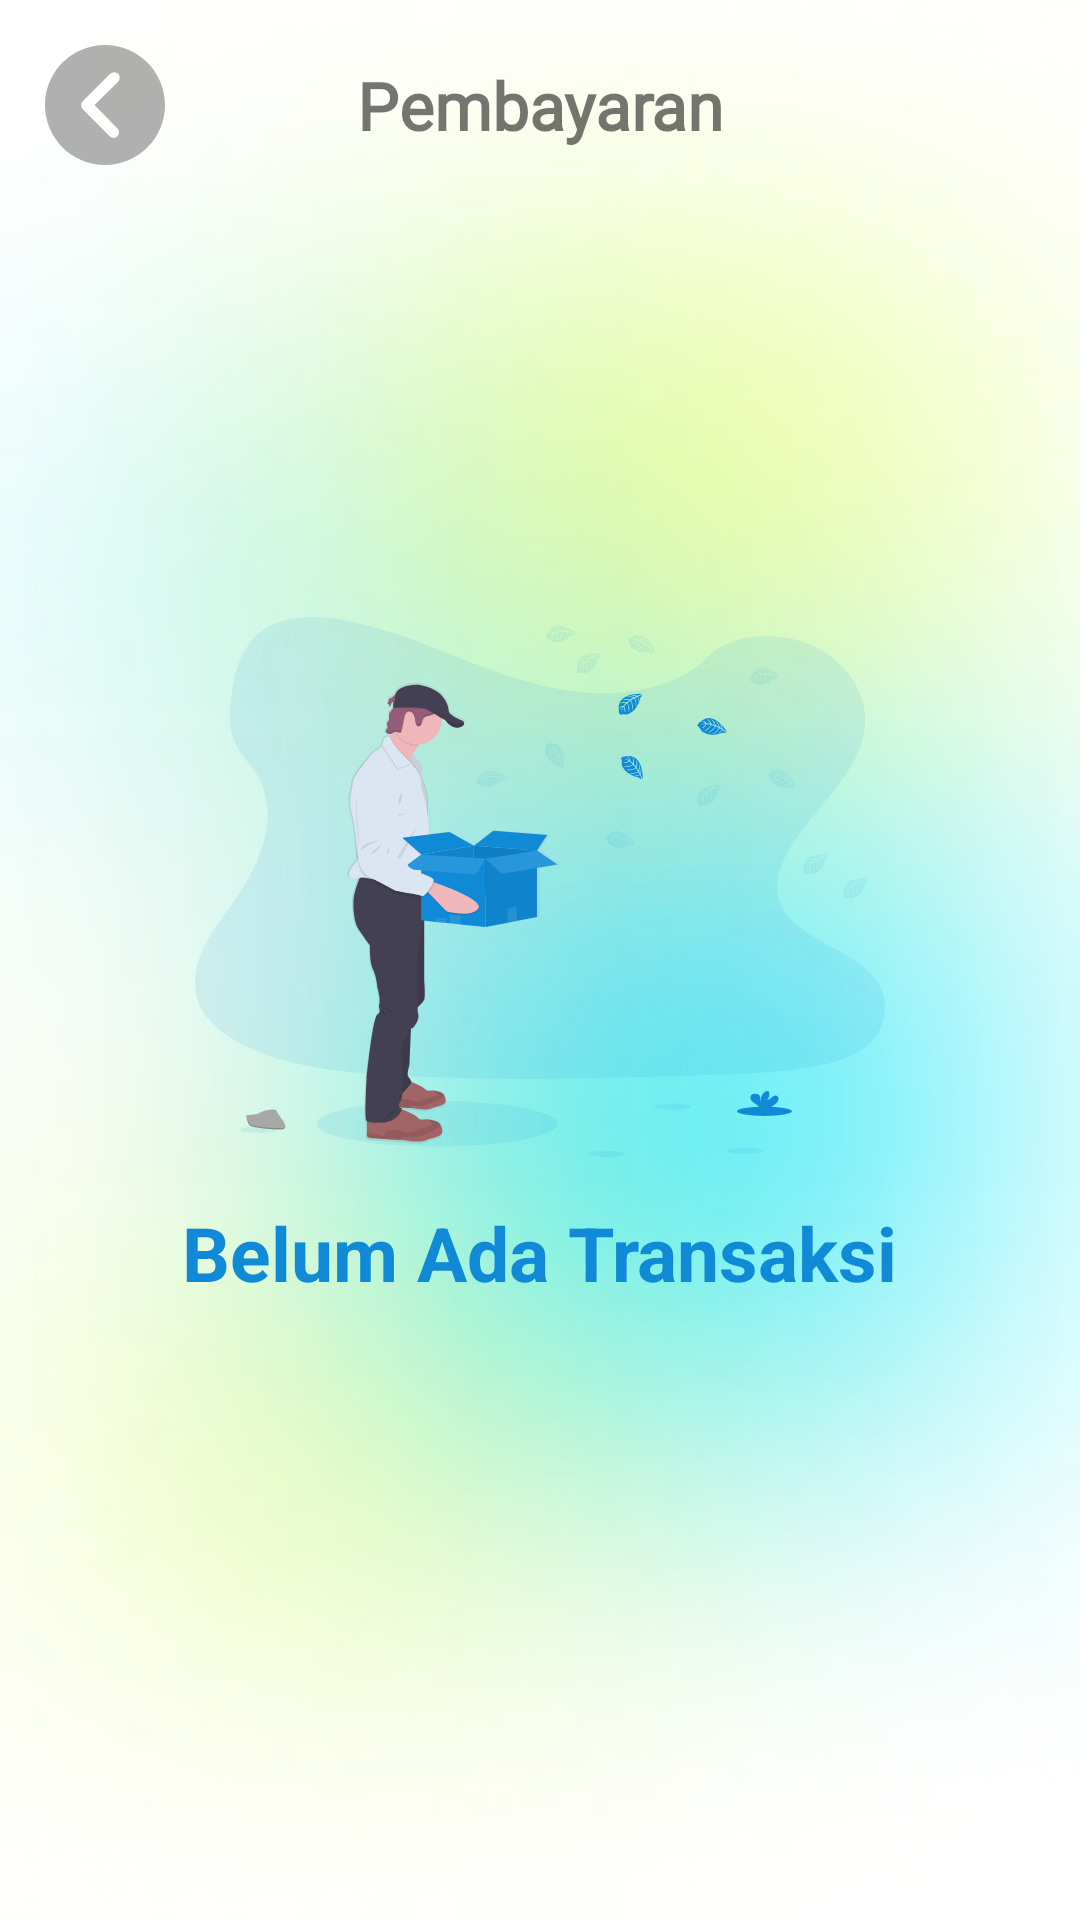

Where icons sit on this 1080px x 1920px app screen, as (x1, y1, x2, y2):
ionic arrow dropleft circle: (45, 45, 165, 165)
